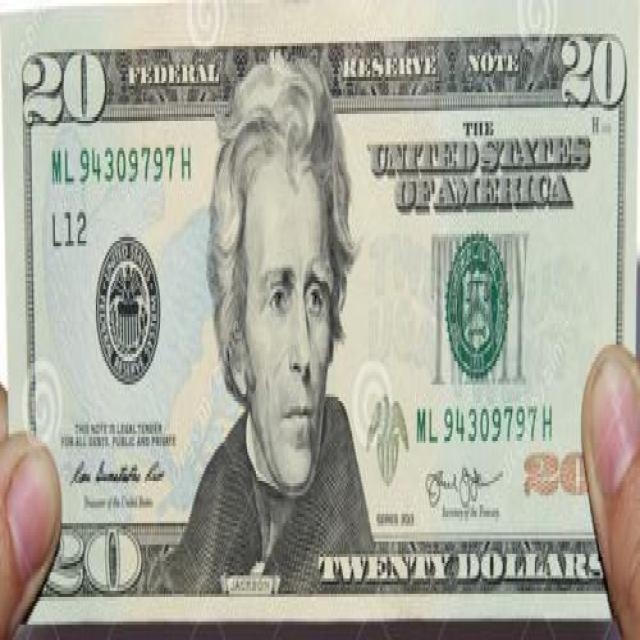20-Front: (0, 3, 640, 628)
